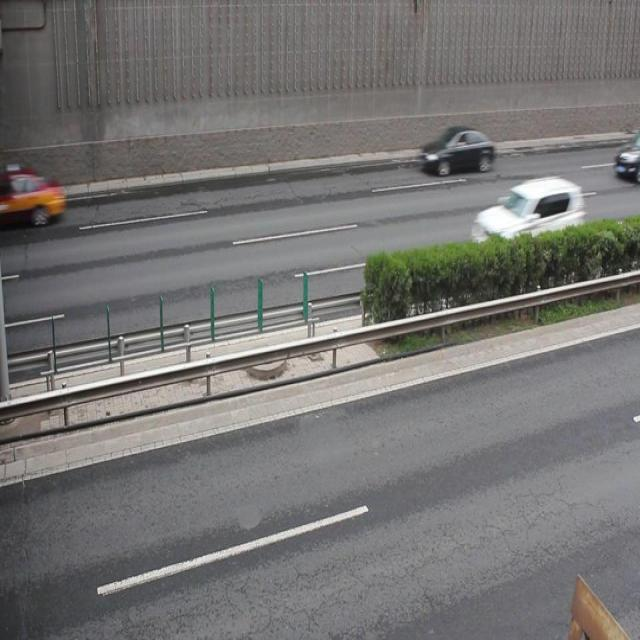car: (470, 176, 583, 266), (418, 122, 496, 177), (0, 165, 64, 228)
